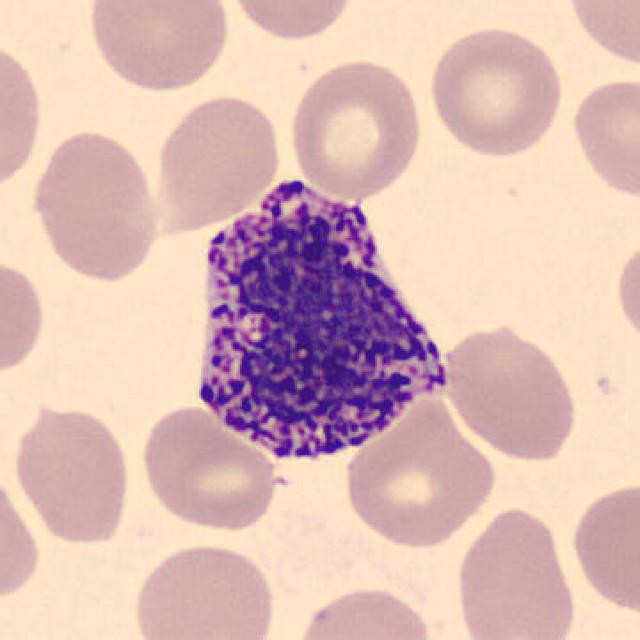Basophil: (180, 168, 466, 480)
RBC: (338, 393, 500, 552), (25, 125, 165, 286), (439, 318, 581, 466), (284, 55, 426, 201), (423, 21, 565, 161), (148, 90, 286, 231), (7, 397, 135, 548), (137, 402, 283, 534), (452, 502, 582, 640), (128, 537, 279, 640), (83, 0, 233, 95), (567, 478, 638, 620), (567, 74, 638, 203), (292, 582, 438, 640), (0, 36, 48, 198), (0, 465, 46, 610), (0, 252, 48, 383), (226, 0, 361, 44), (560, 0, 640, 74), (612, 235, 638, 352)
